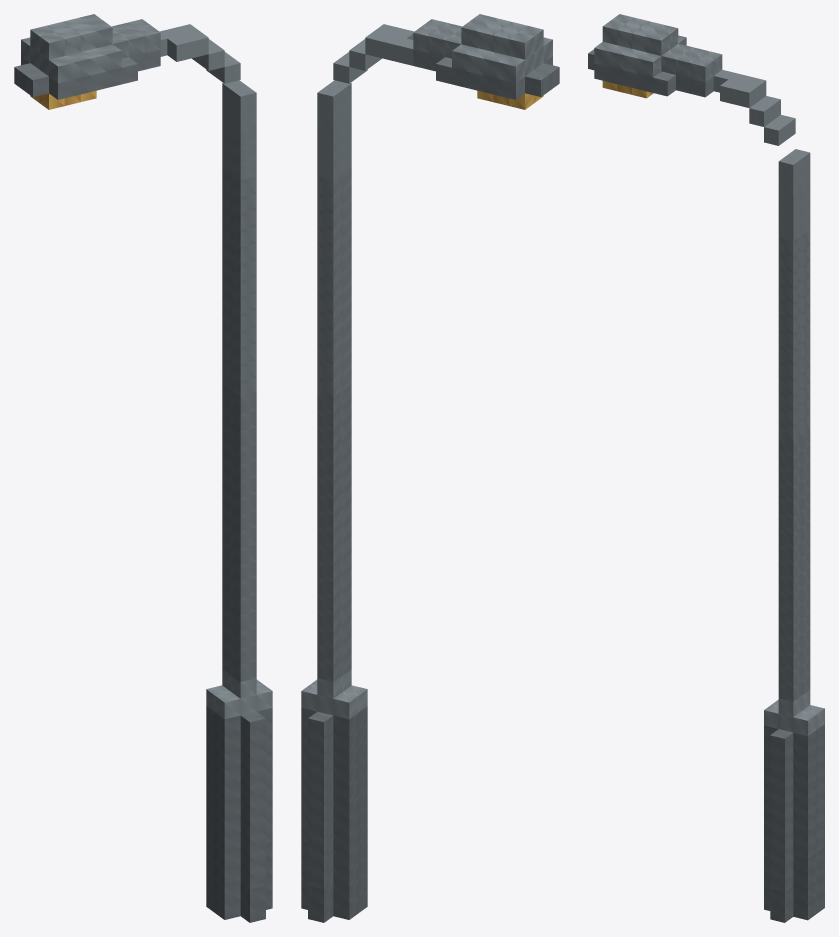
File: Streetlight.fbx
3 renders of one model, left to right at view 1: azimuth 30°, elevation 25°; view 2: azimuth 150°, elevation 25°; view 3: azimuth 330°, elevation 25°, orthographic. The views are drawn at different scales.
Visible parts, largest first — view 1: obj1; view 2: obj1; view 3: obj1.
Part boxes in pixels (x1=…): obj1: x1=14, y1=14, x2=272, y2=922; obj1: x1=301, y1=14, x2=559, y2=922; obj1: x1=588, y1=14, x2=824, y2=922.
Bounding box in the file's own units: 1364 × 5000 × 364.
1 material, 1 textured.
